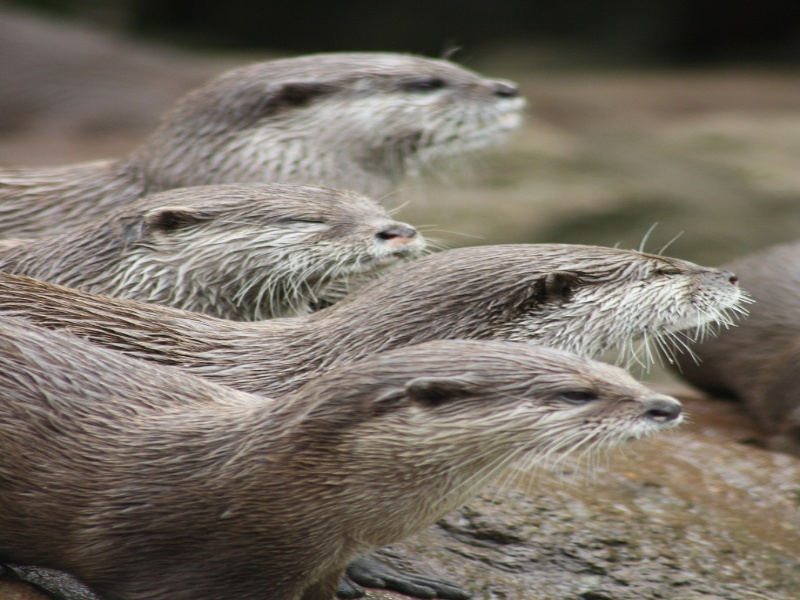minkish: (1, 338, 687, 594), (1, 240, 753, 412), (1, 35, 533, 237), (1, 187, 450, 311)
